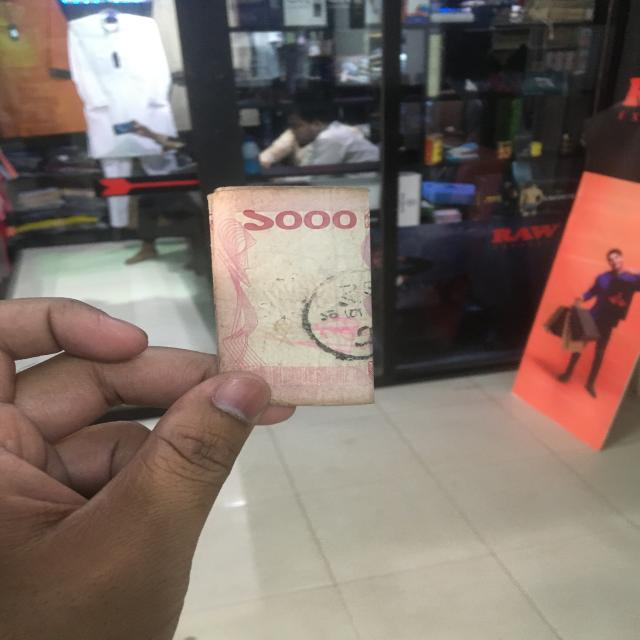Taka: (205, 186, 380, 405)
